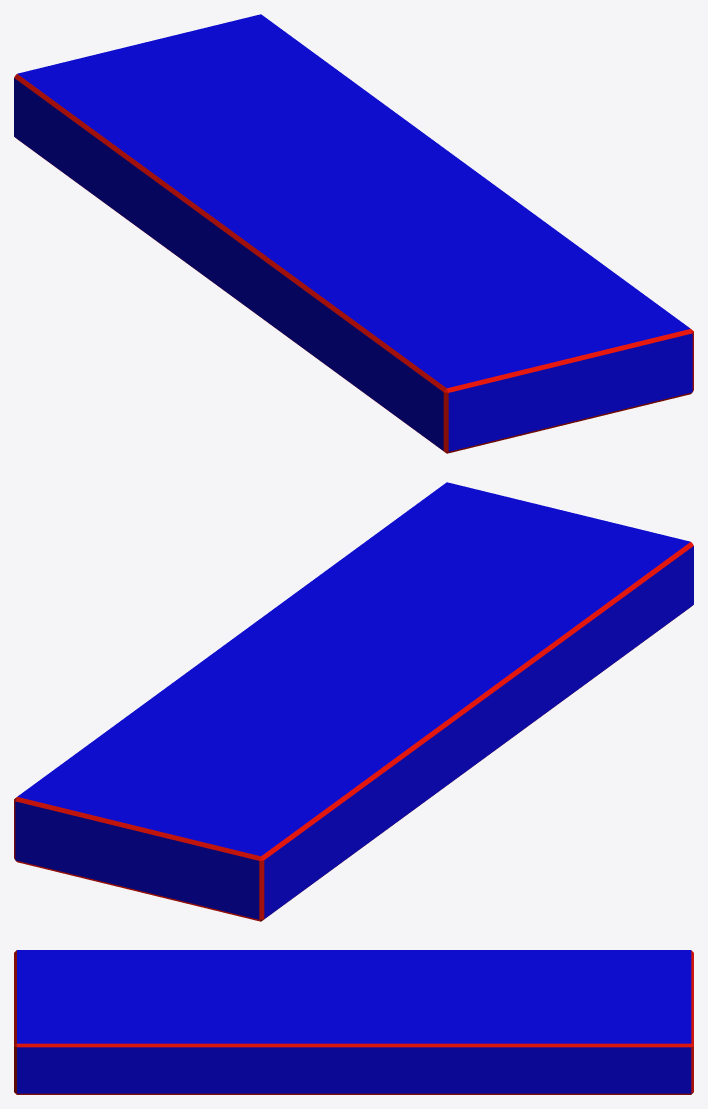
The model's file is HUB_SquarePlatform.fbx.
3 views of the same model, one above another, from view 1: azimuth 30°, elevation 25°; view 2: azimuth 150°, elevation 25°; view 3: azimuth 270°, elevation 25° (orthographic). The views are drawn at different scales.
Visible parts, largest first — view 1: HUB_SquarePlatform; view 2: HUB_SquarePlatform; view 3: HUB_SquarePlatform.
Part boxes in pixels (x1,y1,x2,y2): HUB_SquarePlatform: [14, 14, 693, 453]; HUB_SquarePlatform: [14, 482, 693, 921]; HUB_SquarePlatform: [14, 950, 693, 1094].
Bounding box in the file's own units: 400 × 100 × 1200.
